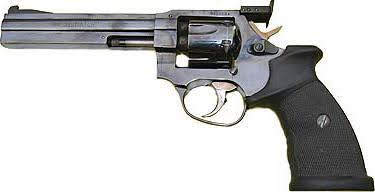gun: (2, 4, 373, 189)
